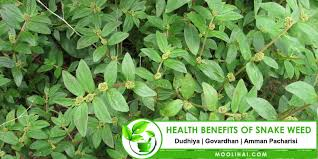snakeweed: (99, 38, 215, 116)
